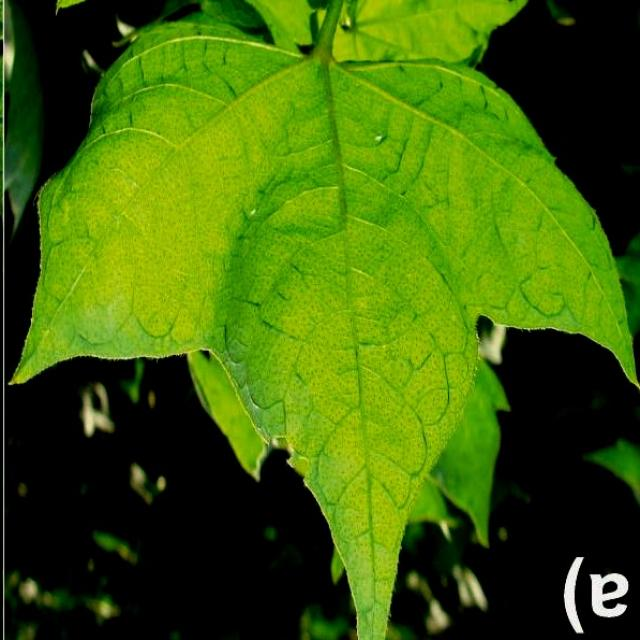Leaf Curl Virus: (116, 34, 524, 432)
